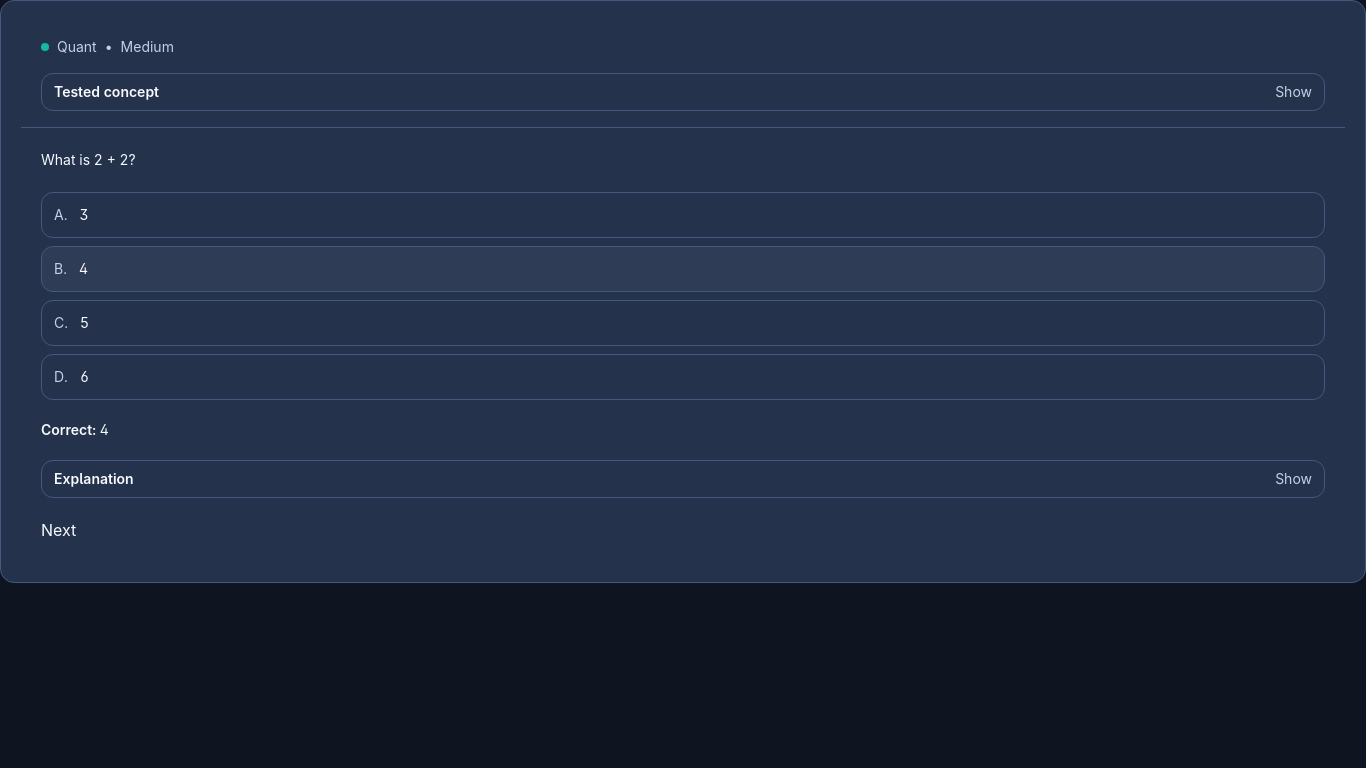
it: Question › shows correct result, hidden explanation, and next after submit
Expected: the element showing "Correct: 4" is shown, [41,421,109,438]
Expected: the text "Add 2 and 2." is not shown
Click the button "Explanation Show" at point(94, 478), box [42,461,1324,497]
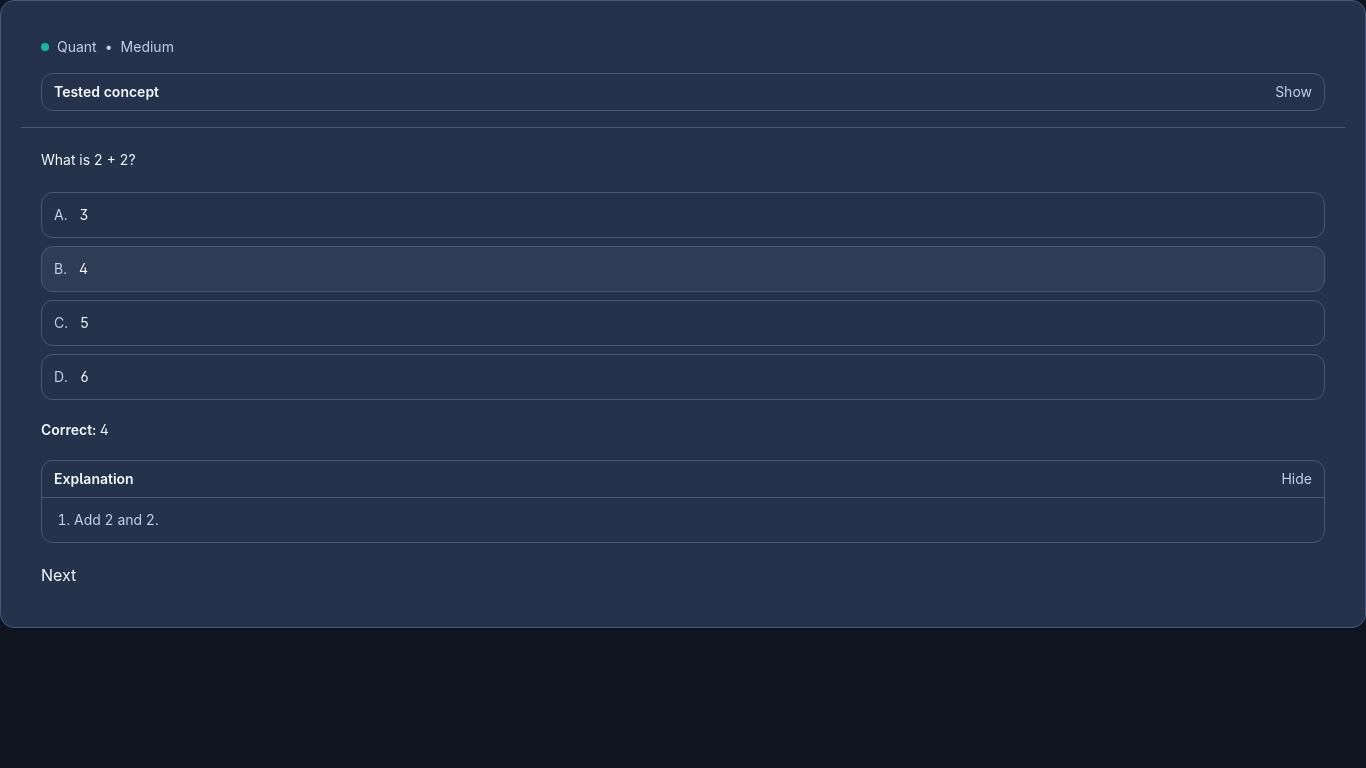
Result: the list item "Add 2 and 2." is shown at [74,511,159,528]
